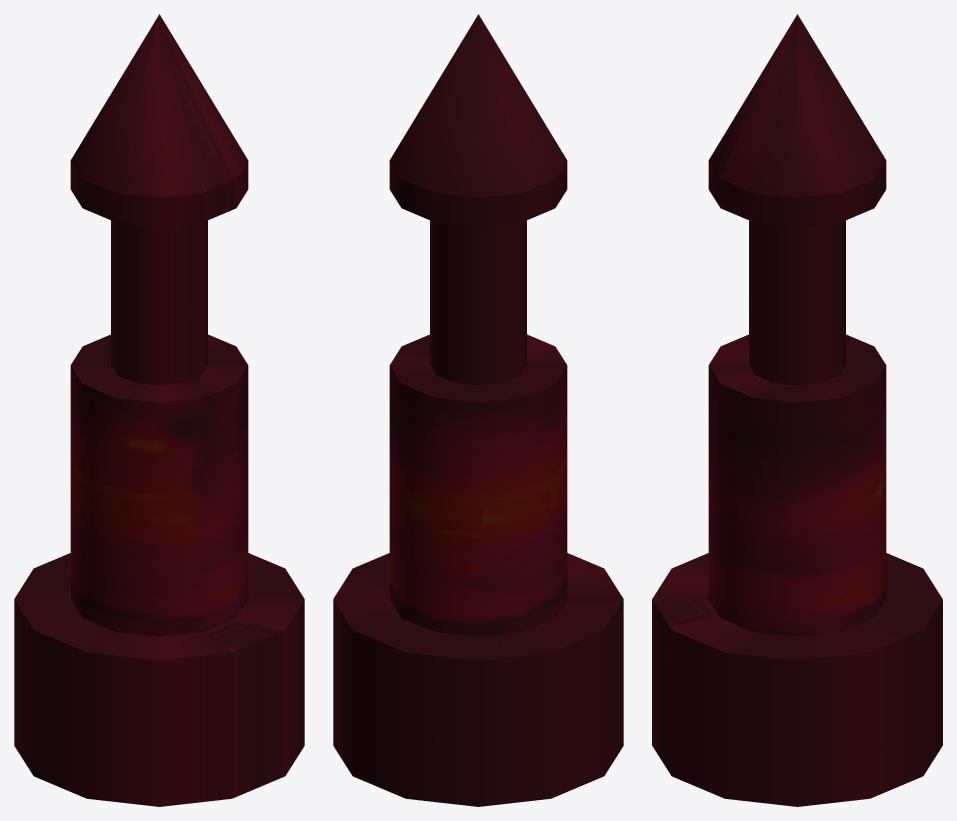
File: PegMetalT1.fbx
3 views of the same model, side by side, from view 1: azimuth 30°, elevation 25°; view 2: azimuth 150°, elevation 25°; view 3: azimuth 270°, elevation 25° (orthographic).
Parts seen in each view (by area): view 1: PegMetalT1; view 2: PegMetalT1; view 3: PegMetalT1.
Boxes of the visible parts, bbox=[...] form: PegMetalT1: bbox=[14, 14, 304, 806]; PegMetalT1: bbox=[333, 14, 623, 806]; PegMetalT1: bbox=[652, 14, 942, 806].
Size of the model in its own units: 0.923 by 2.56 by 0.9233.
Materials: 1 (1 with a texture image).
